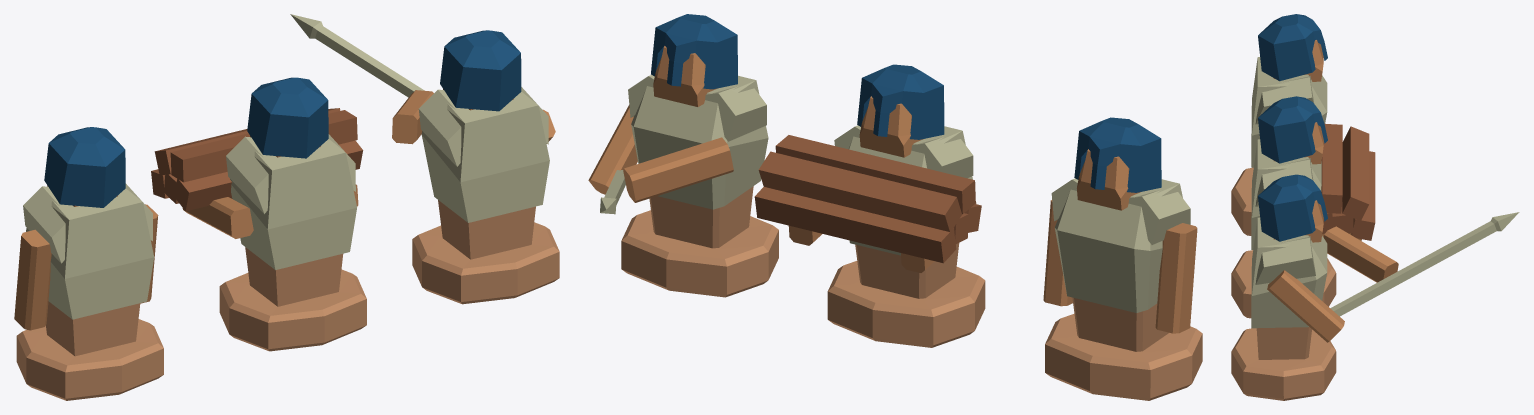
The model's file is pieces.fbx.
The picture shows the model from 3 angles, left to right: view 1: azimuth 30°, elevation 25°; view 2: azimuth 150°, elevation 25°; view 3: azimuth 270°, elevation 25°; orthographic projection. The views are drawn at different scales.
Parts seen in each view (by area): view 1: Grass_Tile.045, Grass_Tile.046, Grass_Tile.020; view 2: Grass_Tile.045, Grass_Tile.046, Grass_Tile.020; view 3: Grass_Tile.046, Grass_Tile.045, Grass_Tile.020.
Boxes of the visible parts, bbox=[...] form: Grass_Tile.045: bbox=[151, 77, 366, 351]; Grass_Tile.046: bbox=[290, 14, 559, 304]; Grass_Tile.020: bbox=[14, 127, 163, 400]; Grass_Tile.045: bbox=[754, 64, 985, 347]; Grass_Tile.046: bbox=[588, 14, 778, 297]; Grass_Tile.020: bbox=[1043, 117, 1202, 400]; Grass_Tile.046: bbox=[1231, 174, 1519, 400]; Grass_Tile.045: bbox=[1231, 96, 1375, 318]; Grass_Tile.020: bbox=[1231, 14, 1327, 235].
Size of the model in its own units: 2.61 by 1.48 by 1.12.
